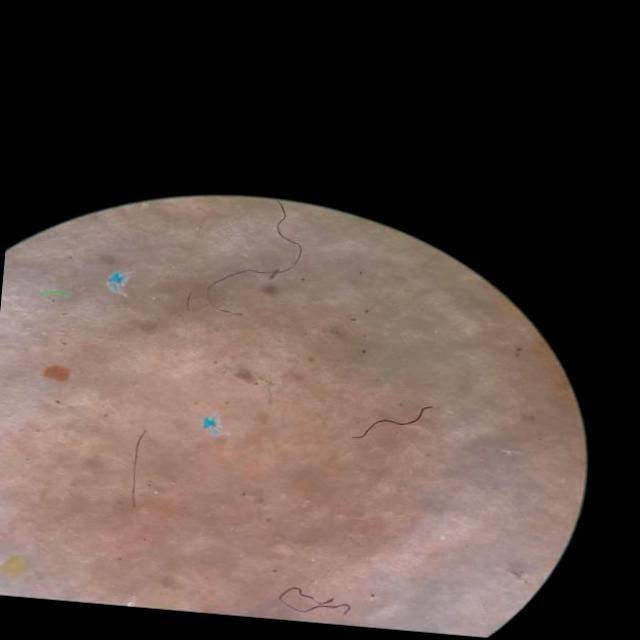fiber: (209, 202, 302, 290), (356, 405, 431, 438), (280, 587, 350, 612), (130, 429, 146, 504)
film: (108, 271, 126, 290), (203, 417, 221, 434)
fragment: (2, 555, 24, 574), (43, 365, 69, 381)
pellet: (441, 535, 445, 539)
